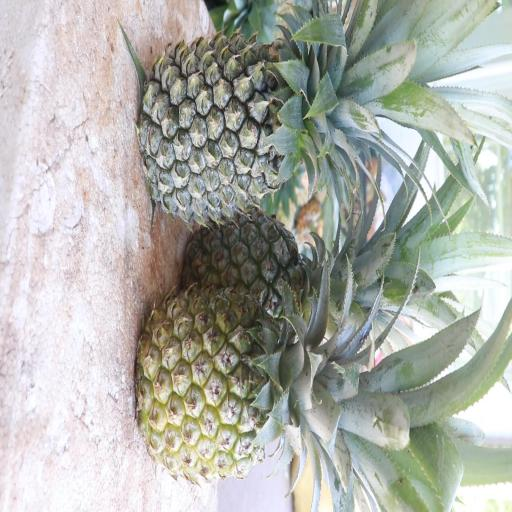------------------------------: (130, 278, 369, 488), (178, 204, 377, 354)
